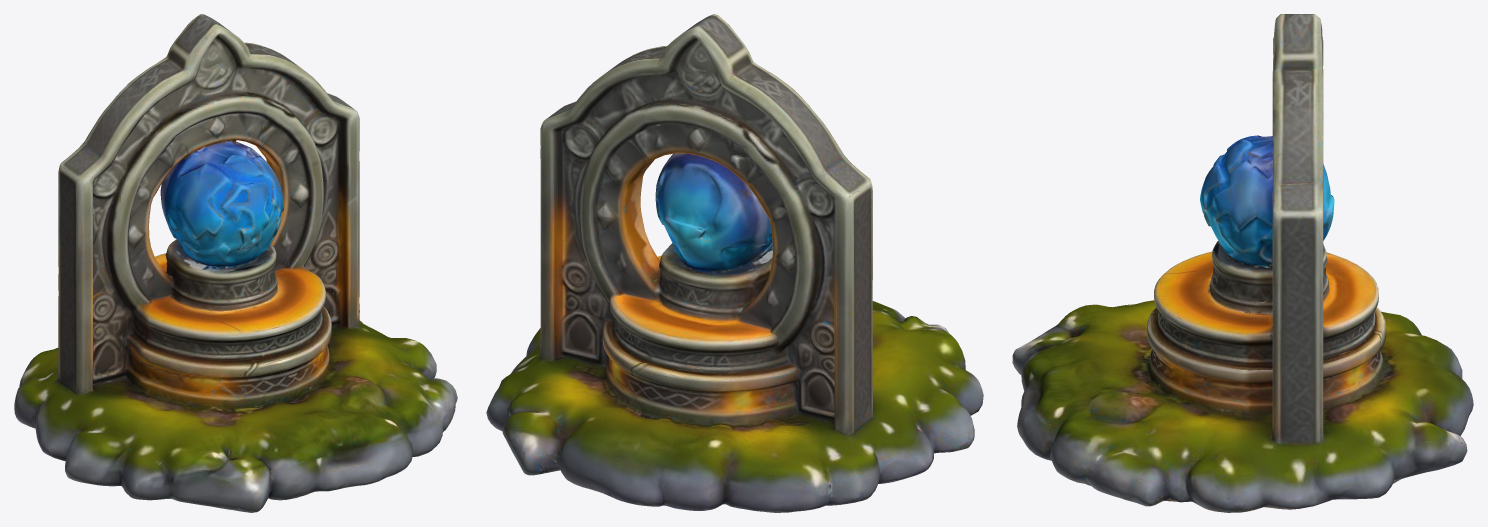
Rendered from podium_v1_mobile.glb.
3 views of the same model, side by side, from view 1: azimuth 30°, elevation 25°; view 2: azimuth 150°, elevation 25°; view 3: azimuth 270°, elevation 25° (orthographic). The views are drawn at different scales.
Size of the model in its own units: 2 by 1.9 by 1.96.
1 material, 1 textured.
